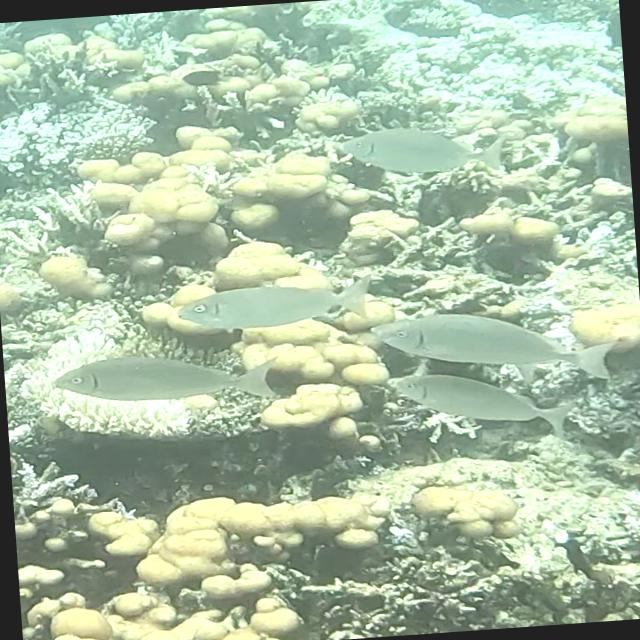Sokar Baligi: (31, 332, 290, 423), (365, 354, 584, 460), (161, 264, 381, 337), (328, 118, 515, 187)
